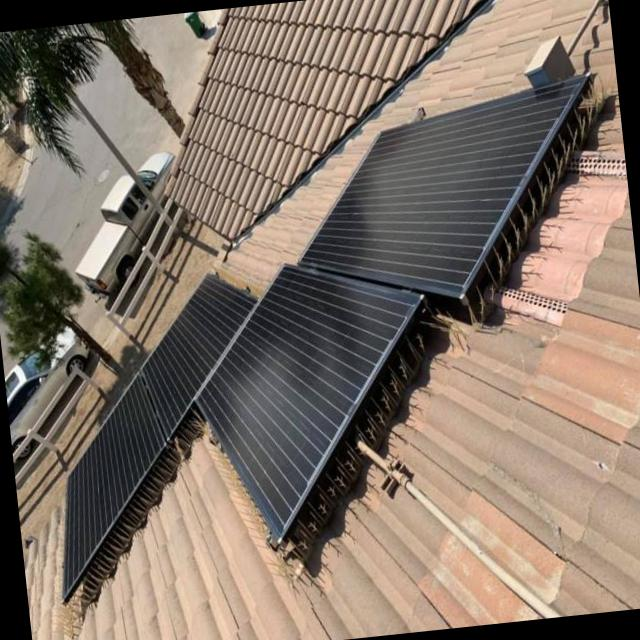no faulty: (194, 263, 423, 542), (300, 74, 587, 287), (139, 280, 255, 439), (63, 430, 116, 602), (102, 376, 168, 514)
